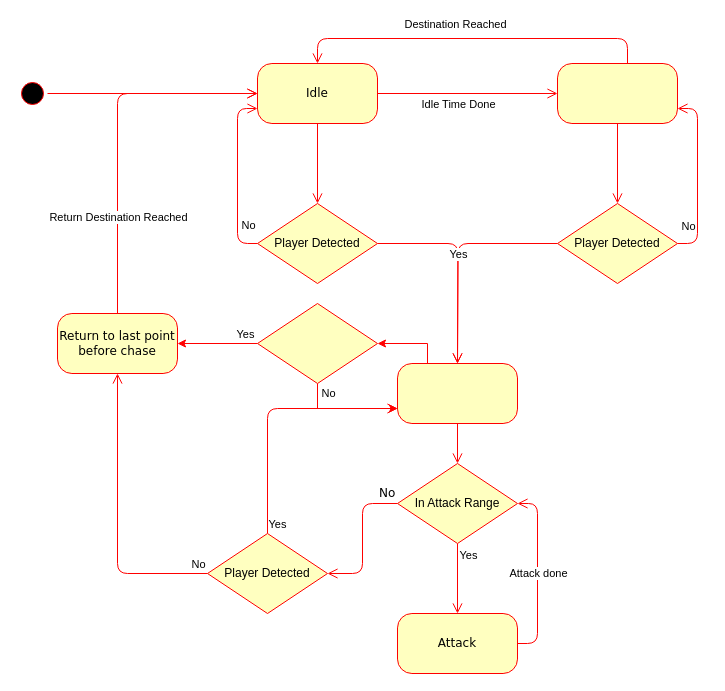
The diagram is 725 pixels wide and 691 high, and some of its shapes have lost their labels. The shapes that lost their labels are listed below. From the top down, each one's box as (x1, y1, x2, y2) in pixels, then its label:
(556, 62, 678, 124): Patrol
(256, 302, 378, 384): Chase Distance Reached
(396, 362, 518, 424): Chase
